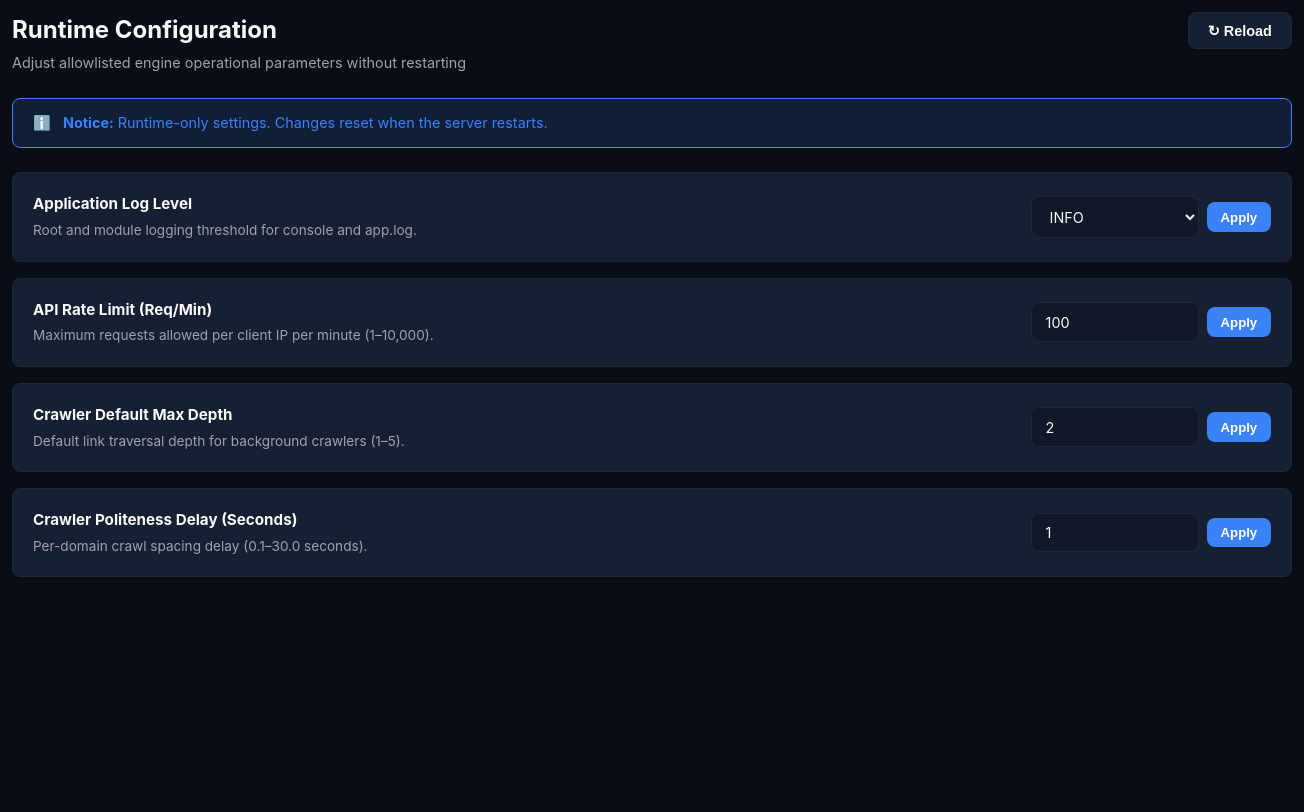
Test: ConfigManager Component › updates allowlisted setting and shows success feedback
Click the button "Apply" in the row of "Application Log Level".
click(1239, 217)  # box x1=1207 y1=202 x2=1271 y2=232
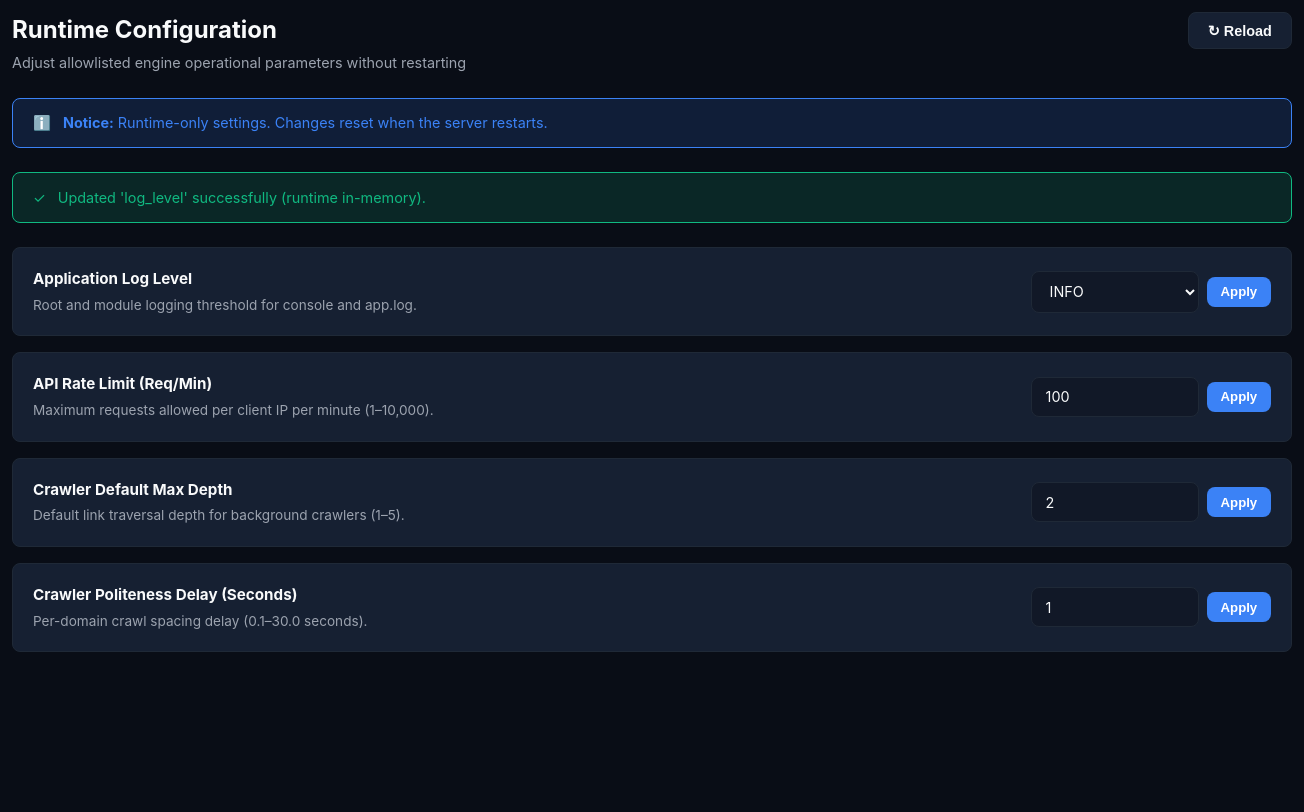
Check: the text "Updated 'log_level' successfully (runtime in-memory)." is shown, box x1=58 y1=187 x2=426 y2=209
